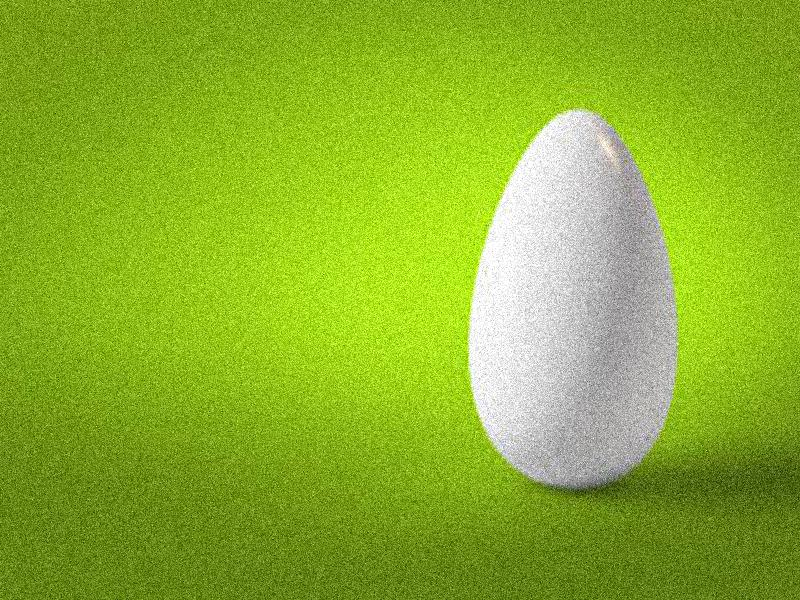Eggs: (468, 104, 677, 486)
